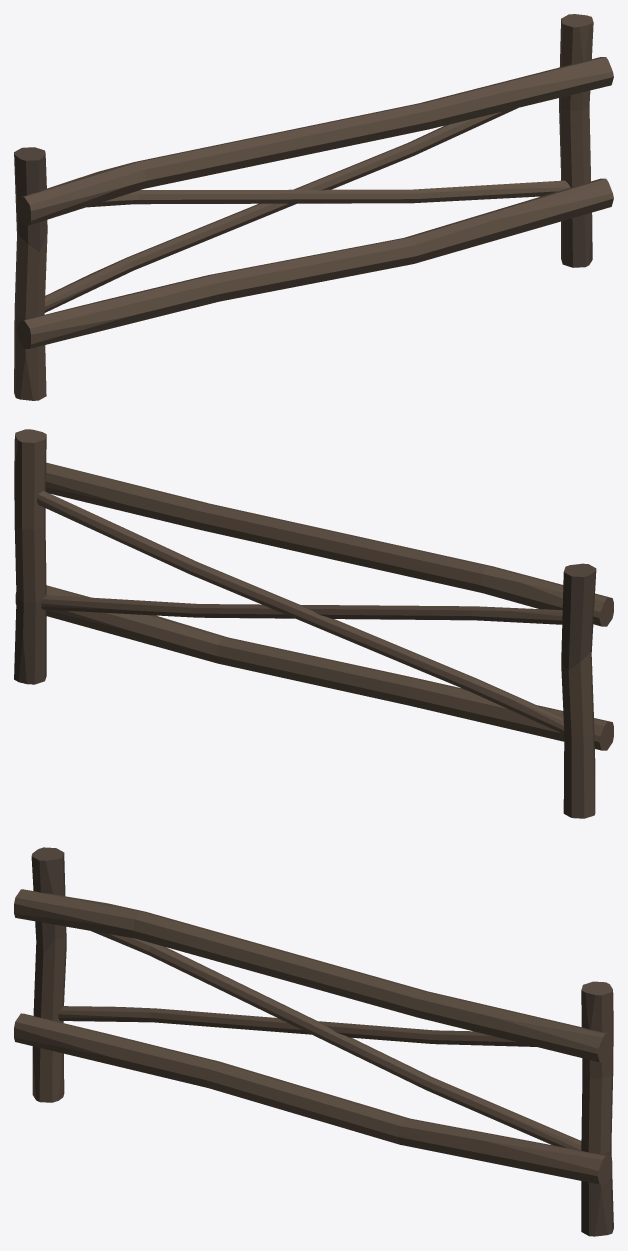
The model's file is SM_Props_Farm_Fence_Round_Preset.fbx.
3 views of the same model, one above another, from view 1: azimuth 30°, elevation 25°; view 2: azimuth 150°, elevation 25°; view 3: azimuth 330°, elevation 25° (orthographic).
Visible parts, largest first — view 1: SM_Props_Farm_Fence_Round_Preset; view 2: SM_Props_Farm_Fence_Round_Preset; view 3: SM_Props_Farm_Fence_Round_Preset.
Part boxes in pixels (box(x1,y1,x2,y2)): SM_Props_Farm_Fence_Round_Preset: box(14, 14, 613, 400); SM_Props_Farm_Fence_Round_Preset: box(14, 429, 613, 818); SM_Props_Farm_Fence_Round_Preset: box(14, 847, 613, 1236).
Bounding box in the file's own units: 319 × 126 × 27.09.
